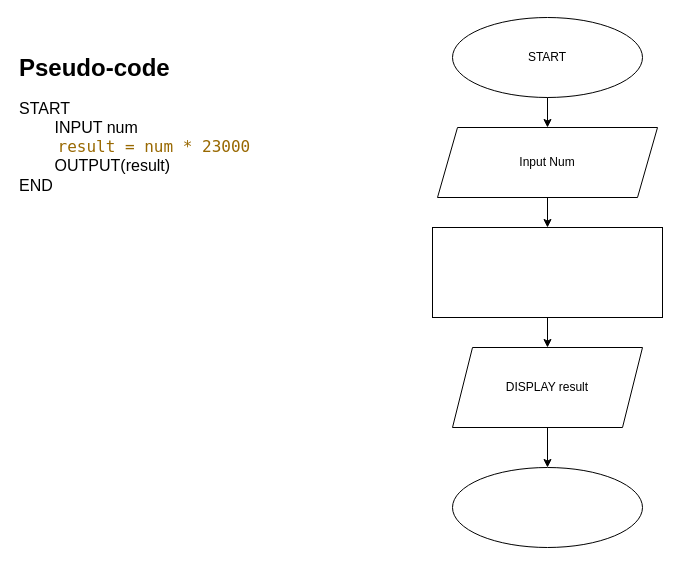
Image size: 680x565. Some labels were removed from this diagram. The centre of each missing label's shape, as x and y in pixels:
END: point 547,507
result = num * 23000: point 547,272
